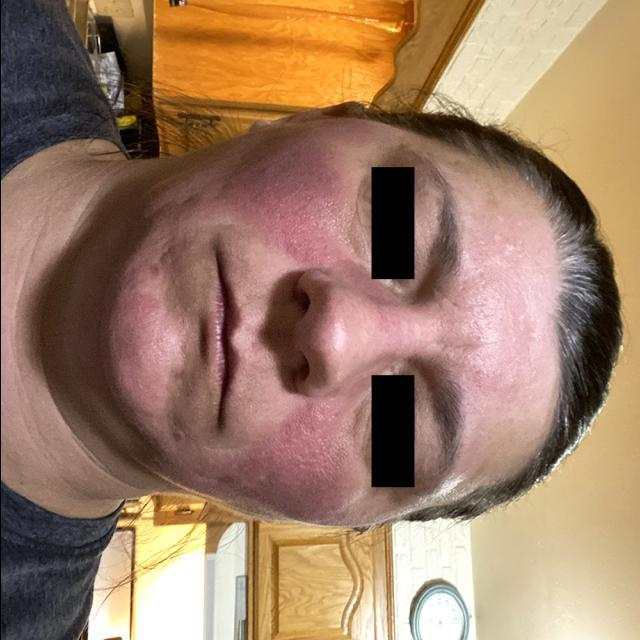Rosacea: (234, 141, 334, 263), (277, 416, 336, 491)
